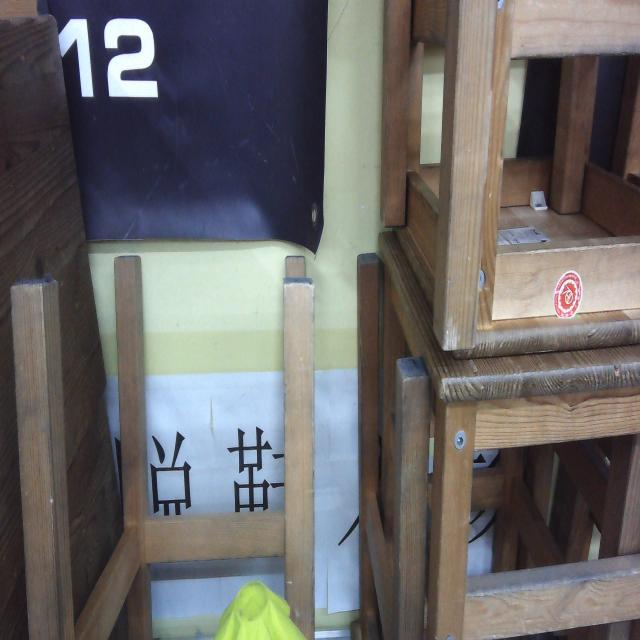Yellow-Stake-Head: (210, 579, 306, 638)
